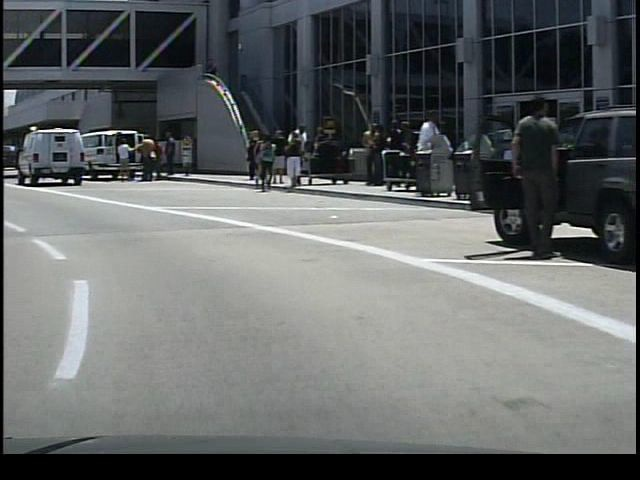person: (492, 83, 564, 266), (406, 109, 440, 197), (283, 123, 309, 186), (277, 138, 300, 189), (156, 131, 178, 179), (133, 133, 153, 185), (113, 136, 131, 186), (239, 126, 254, 183)
